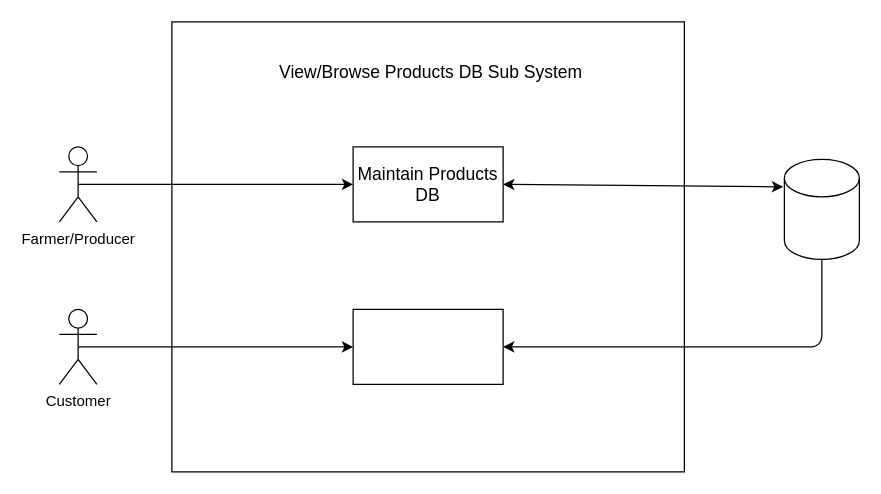
Some shapes in this 881 by 494 pixel diagram are drawn without their labels. The centre of each missing label's shape, as x and y in pixels:
"Database" goes at point 821,208.
"View/Browse Products DB" goes at point 427,346.
